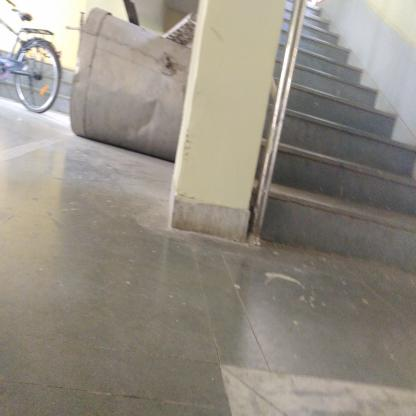stairs: (299, 66, 361, 266)
